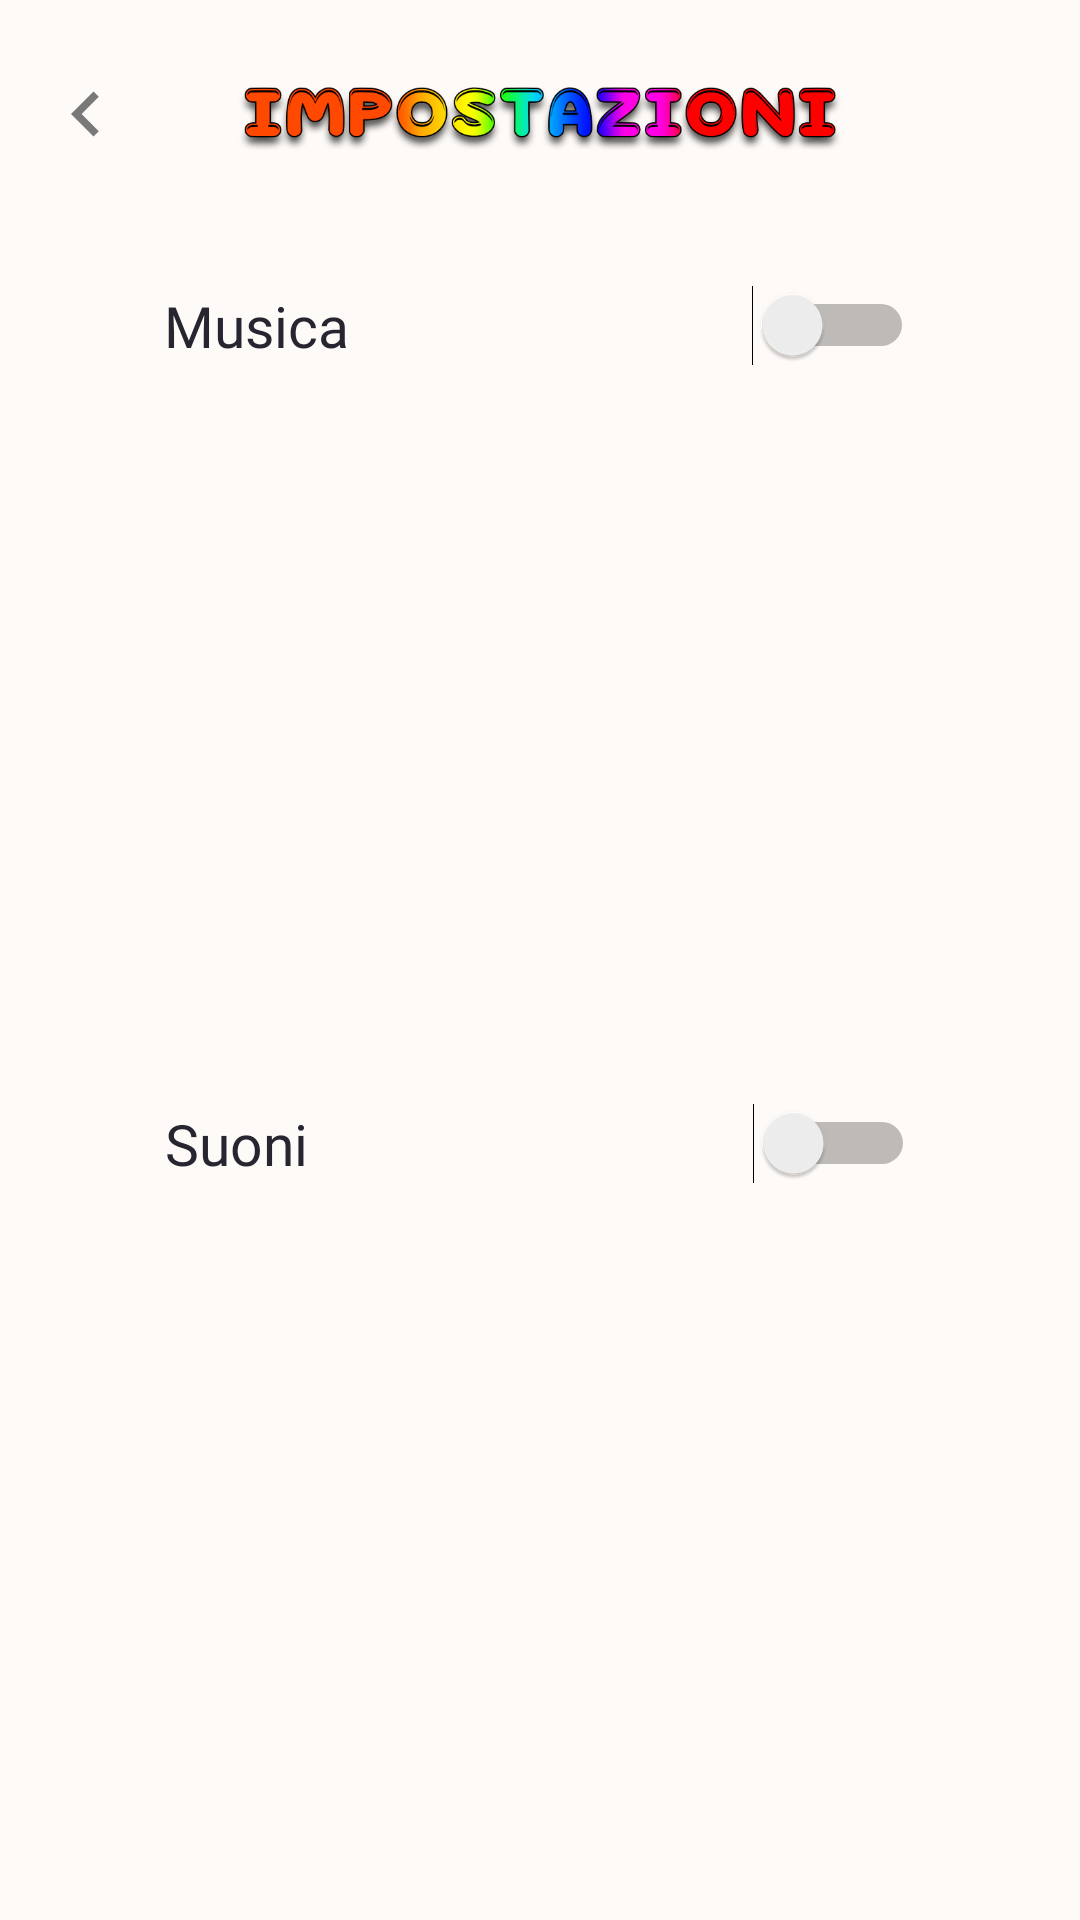

Screen size 1080x1920. Icon name, then its center in pixels as (x=x, y=y):
backbutton: (x=85, y=114)
